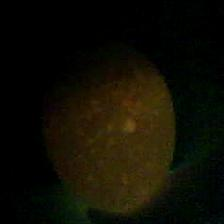fertile: (41, 34, 177, 216)
